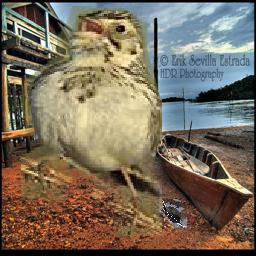Sparrow: (22, 6, 163, 236)
Woodpecker: (159, 200, 187, 229)
